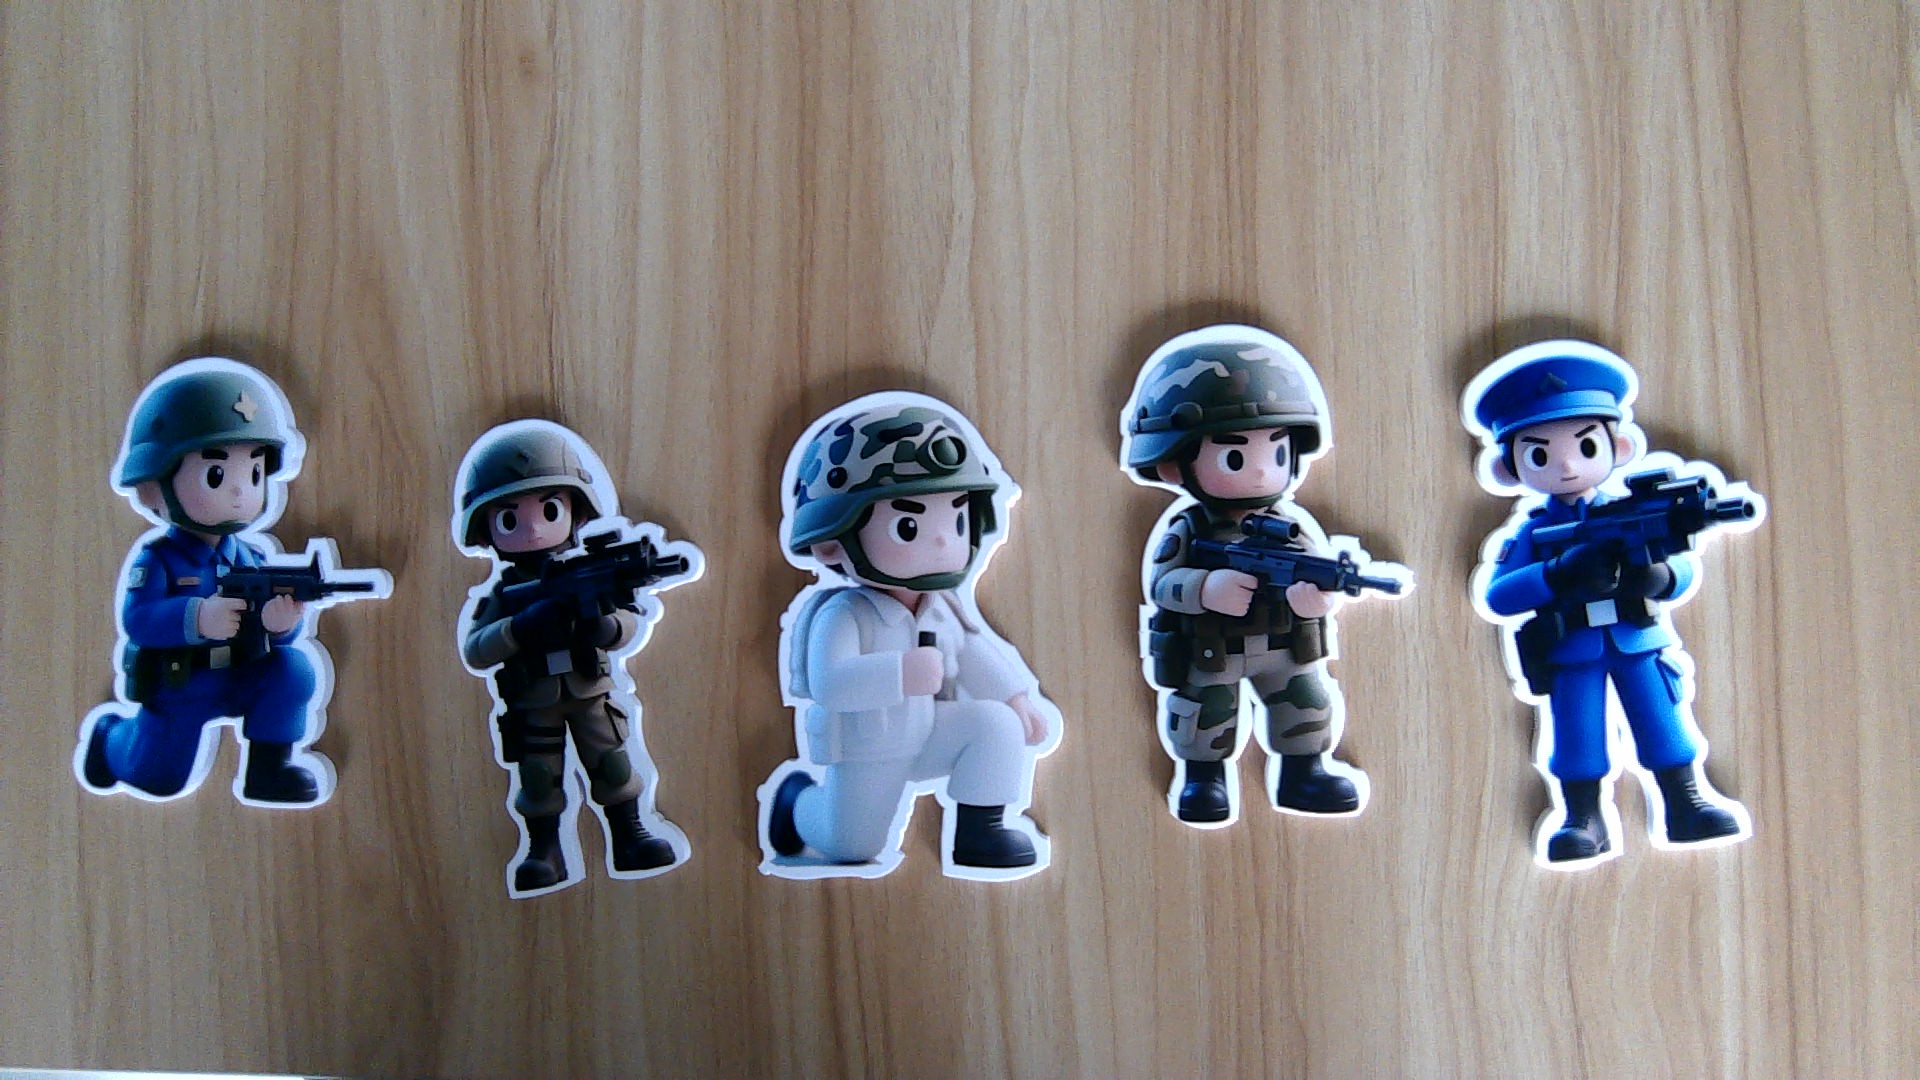人质: (740, 591, 1069, 887)
友军: (1135, 504, 1403, 825), (452, 560, 698, 897)
敌人2: (1462, 489, 1766, 873), (69, 525, 380, 814)
